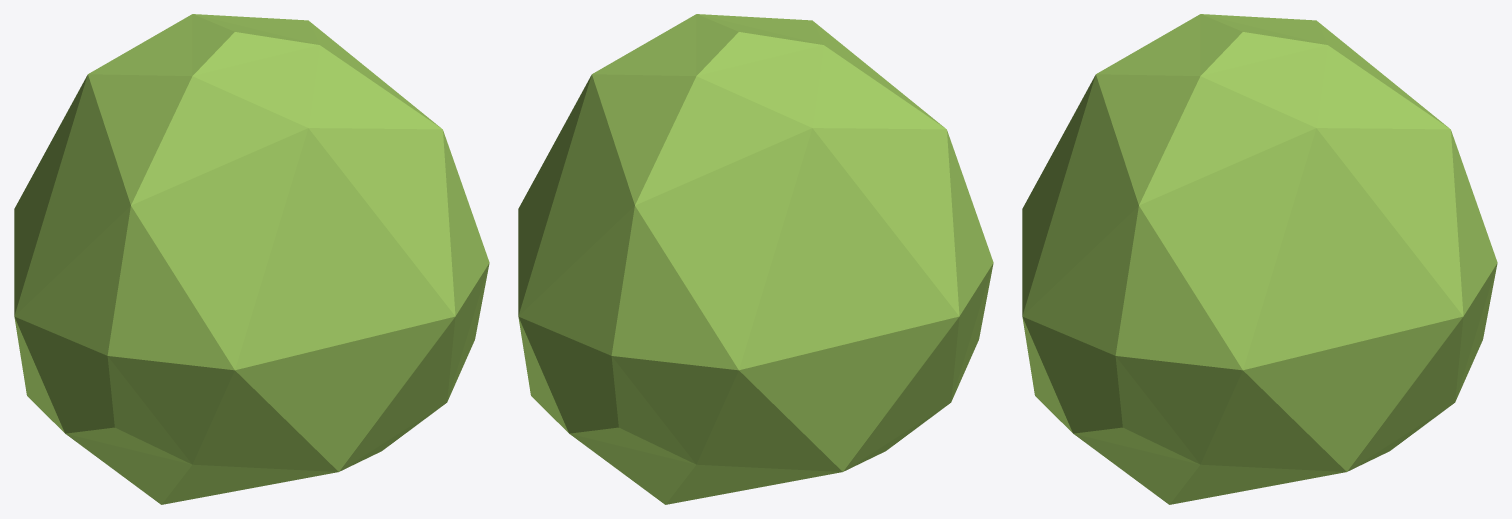
File: herb4.fbx
The picture shows the model from 3 angles, left to right: view 1: azimuth 30°, elevation 25°; view 2: azimuth 150°, elevation 25°; view 3: azimuth 270°, elevation 25°; orthographic projection.
Parts seen in each view (by area): view 1: Sphere; view 2: Sphere; view 3: Sphere.
Part boxes in pixels (x1=…): Sphere: x1=14, y1=14, x2=489, y2=504; Sphere: x1=518, y1=14, x2=993, y2=504; Sphere: x1=1022, y1=14, x2=1497, y2=504.
Bounding box in the file's own units: 34.18 × 31.04 × 31.89.
